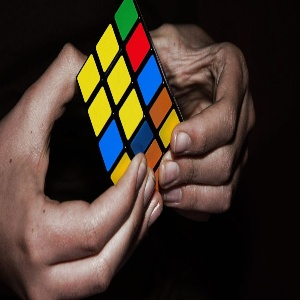cube: (76, 0, 186, 198)
